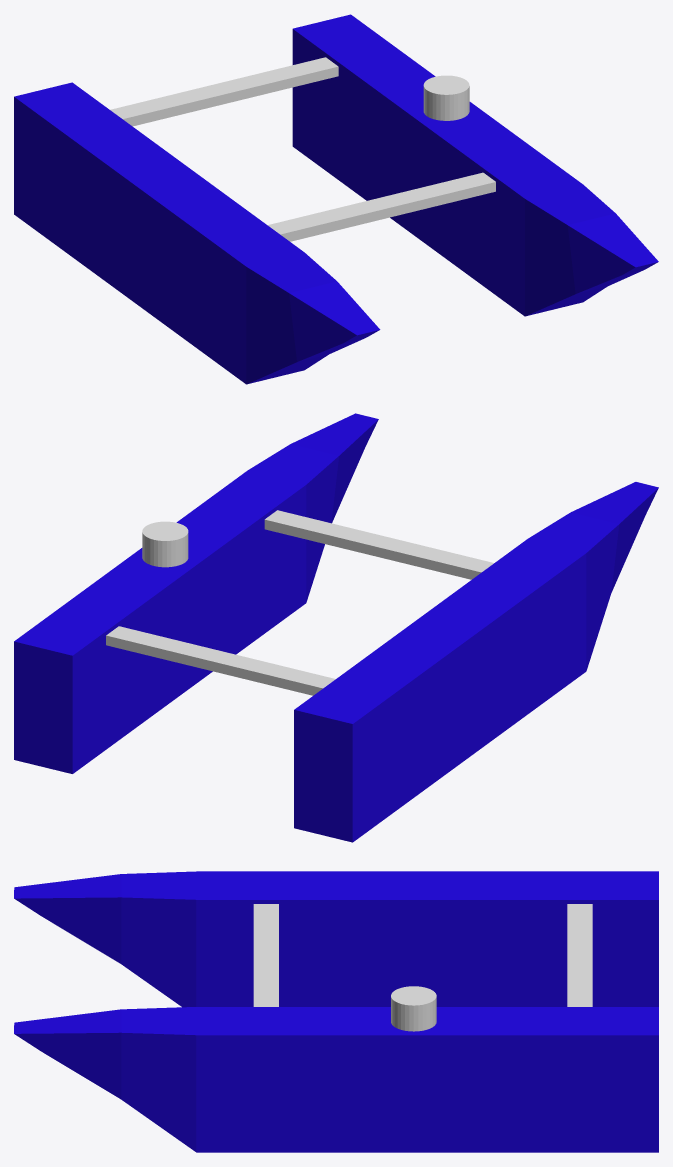
File: boat.glb
The picture shows the model from 3 angles, top to bottom: view 1: azimuth 30°, elevation 25°; view 2: azimuth 150°, elevation 25°; view 3: azimuth 270°, elevation 25°; orthographic projection.
Parts seen in each view (by area): view 1: Cube.002, Cube, Cube.001, Cube.003, Cylinder; view 2: Cube.002, Cube, Cube.003, Cube.001, Cylinder; view 3: Cube, Cube.002, Cube.001, Cube.003, Cylinder.
Boxes of the visible parts, x1=… form: Cube.002: x1=14, y1=82, x2=380, y2=384; Cube: x1=292, y1=14, x2=658, y2=316; Cube.001: x1=110, y1=57, x2=338, y2=126; Cube.003: x1=267, y1=172, x2=495, y2=241; Cylinder: x1=423, y1=75, x2=469, y2=120; Cube.002: x1=294, y1=482, x2=658, y2=842; Cube: x1=14, y1=413, x2=378, y2=773; Cube.003: x1=264, y1=510, x2=493, y2=579; Cube.001: x1=106, y1=626, x2=335, y2=695; Cylinder: x1=142, y1=521, x2=188, y2=567; Cube: x1=14, y1=1007, x2=658, y2=1152; Cube.002: x1=14, y1=871, x2=658, y2=1007; Cube.001: x1=567, y1=904, x2=592, y2=1006; Cube.003: x1=253, y1=904, x2=278, y2=1006; Cylinder: x1=391, y1=986, x2=436, y2=1031.
Bounding box in the file's own units: 5.99 × 2.44 × 9.97.
